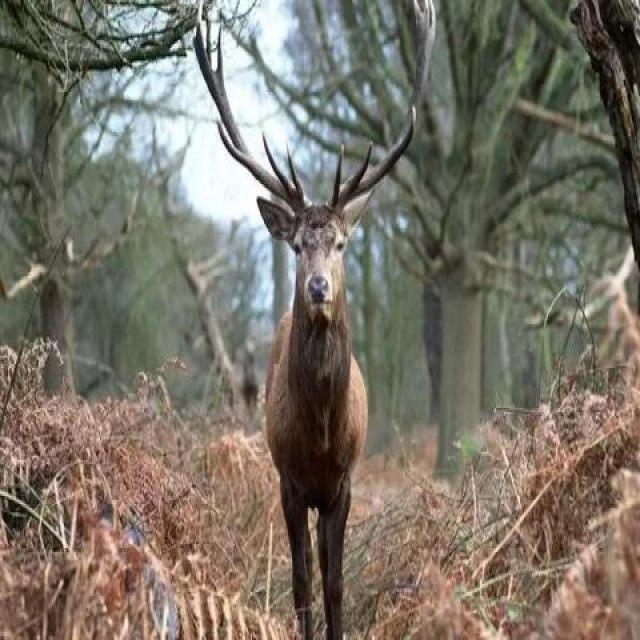deer: (172, 0, 449, 587)
